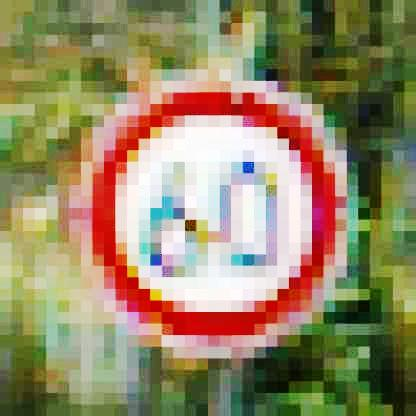Speed Limit -60-: (68, 78, 348, 355)
